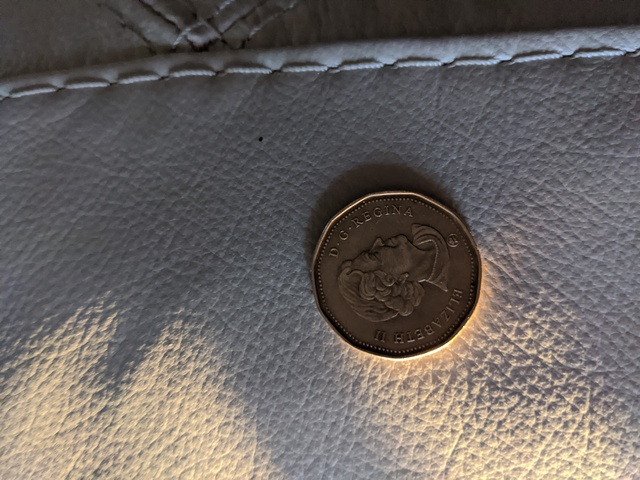loonie: (288, 175, 491, 365)
